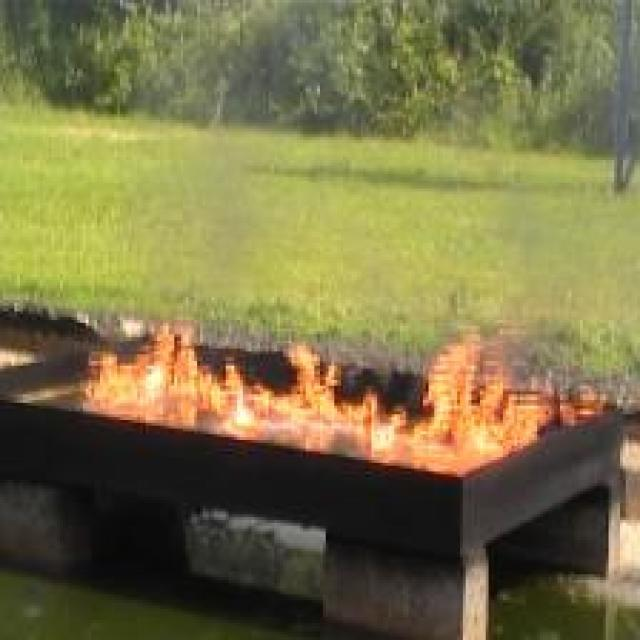Fire: (85, 317, 604, 454)
